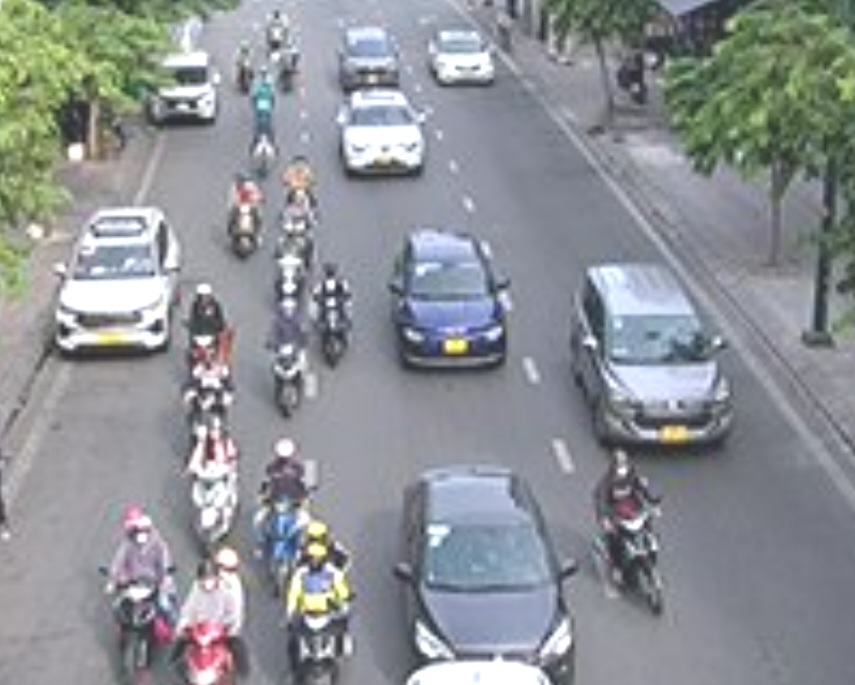car: (395, 468, 572, 673), (569, 258, 735, 449), (51, 209, 184, 353), (386, 230, 509, 372), (341, 95, 425, 176), (149, 52, 220, 128), (332, 26, 403, 87), (427, 28, 495, 85)
